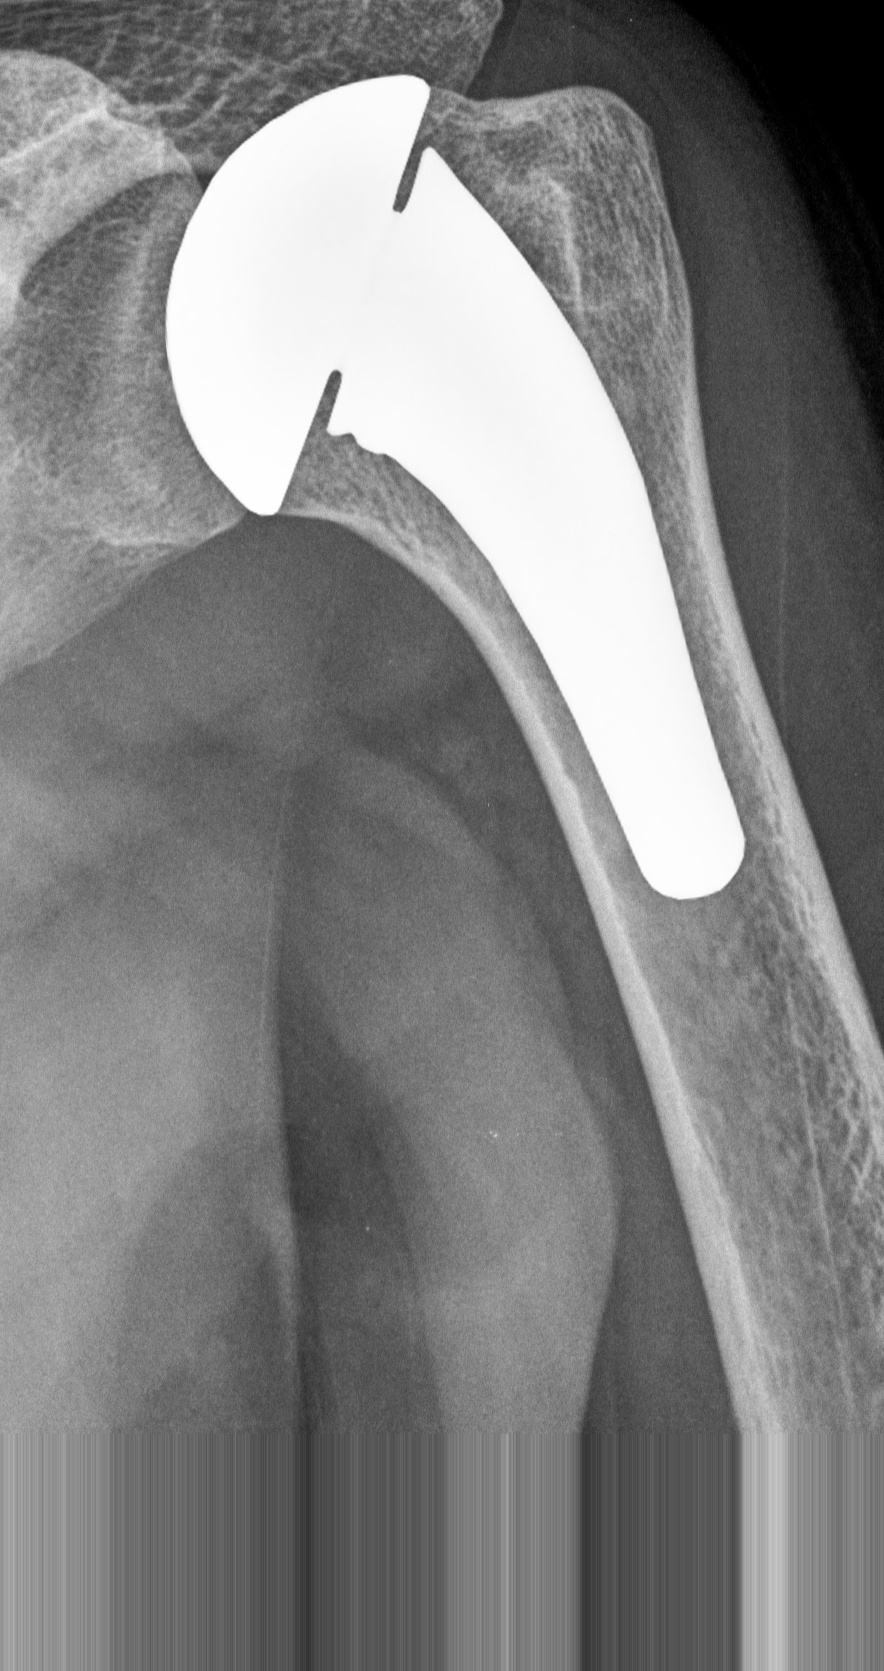Shoulder - AequalisAscendFlex - Tornier: (122, 62, 436, 533)
